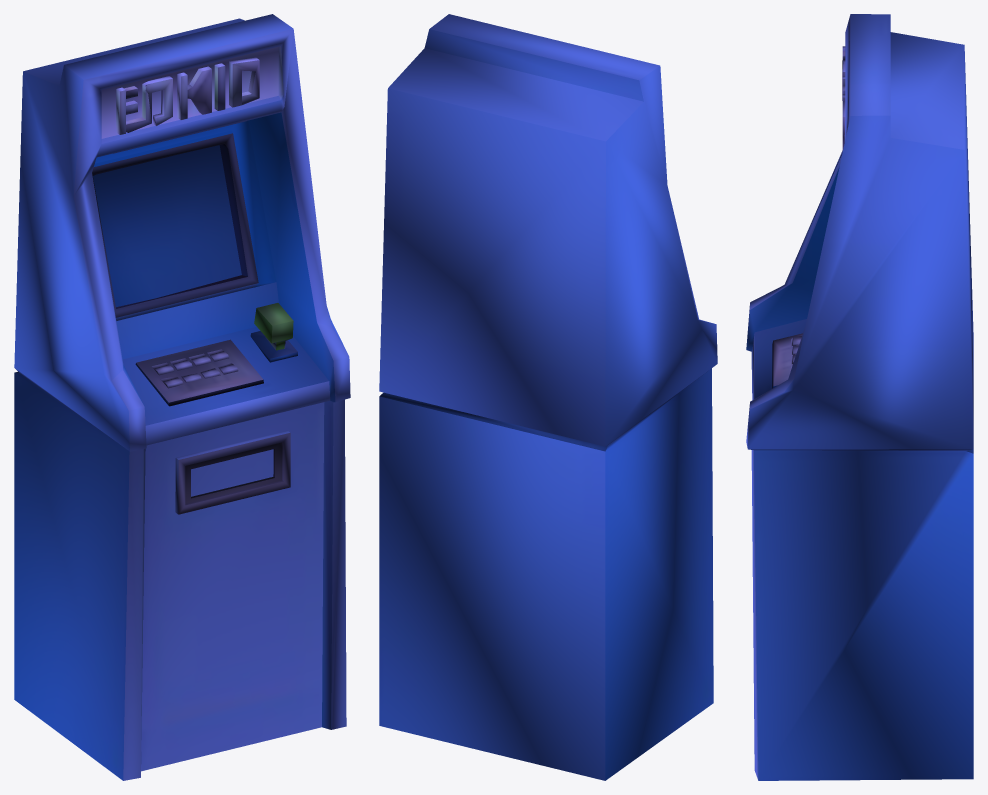
File: model.progressive.glb
3 views of the same model, side by side, from view 1: azimuth 30°, elevation 25°; view 2: azimuth 150°, elevation 25°; view 3: azimuth 270°, elevation 25° (orthographic).
Parts seen in each view (by area): view 1: Atm2; view 2: Atm2; view 3: Atm2.
Boxes of the visible parts, x1,y1,x2,y2 form: Atm2: (14, 14, 350, 780); Atm2: (379, 14, 717, 780); Atm2: (746, 14, 973, 780).
Size of the model in its own units: 0.671 by 1.88 by 0.5851.
1 material, 1 textured.
